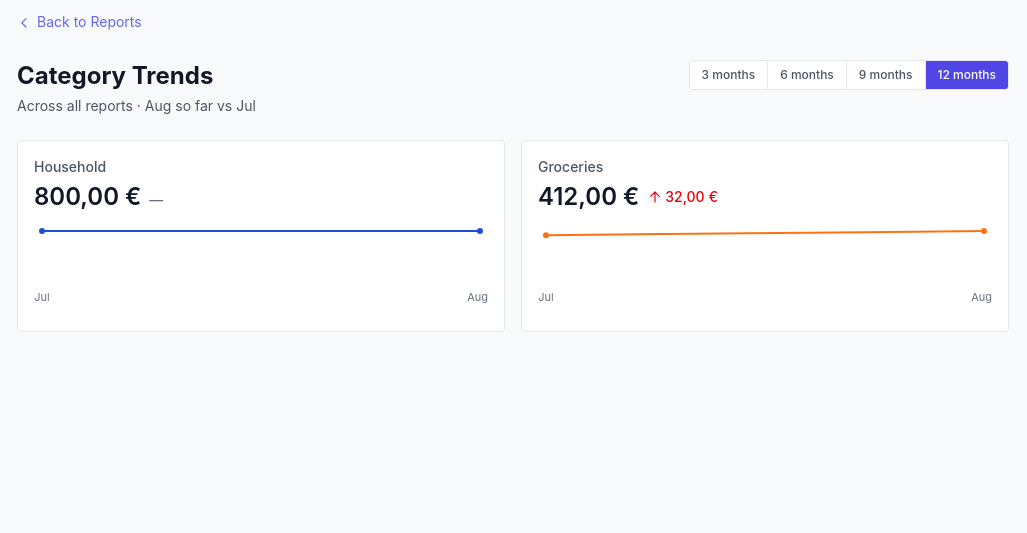
Test: CategoryTrends › opens the detail view for a category when its tile is clicked
Click the button "Groceries 412,00 € 32,00 €". click: (765, 236)
box: [521,140,1009,332]
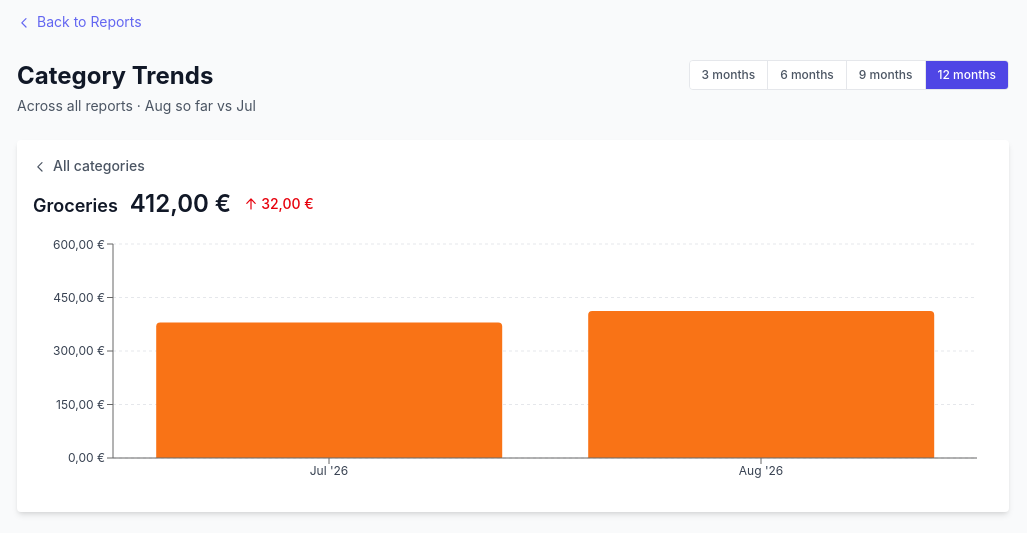
Result: the button "All categories" is shown at [33,156,145,176]
Result: the button "Household" is gone
